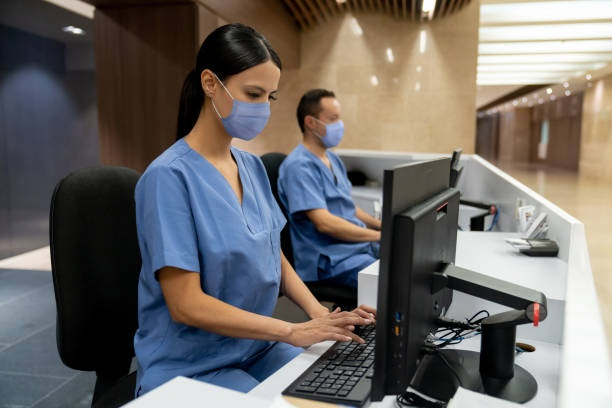keyboard: (283, 313, 375, 408)
mask: (194, 24, 285, 145), (294, 89, 347, 151)
person: (135, 23, 293, 377), (277, 88, 380, 280)
